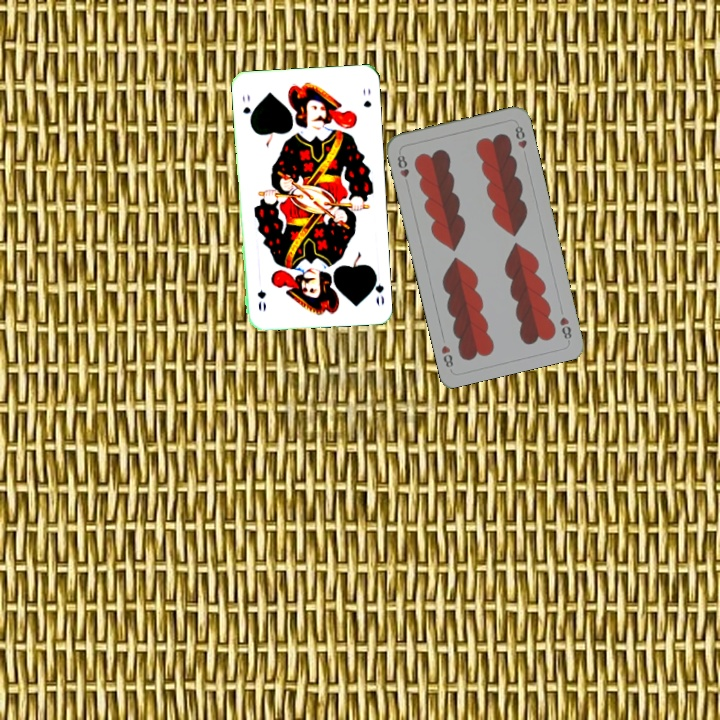GO: (367, 268, 387, 308), (238, 90, 256, 126)
H8: (393, 151, 412, 188), (555, 313, 574, 344)
